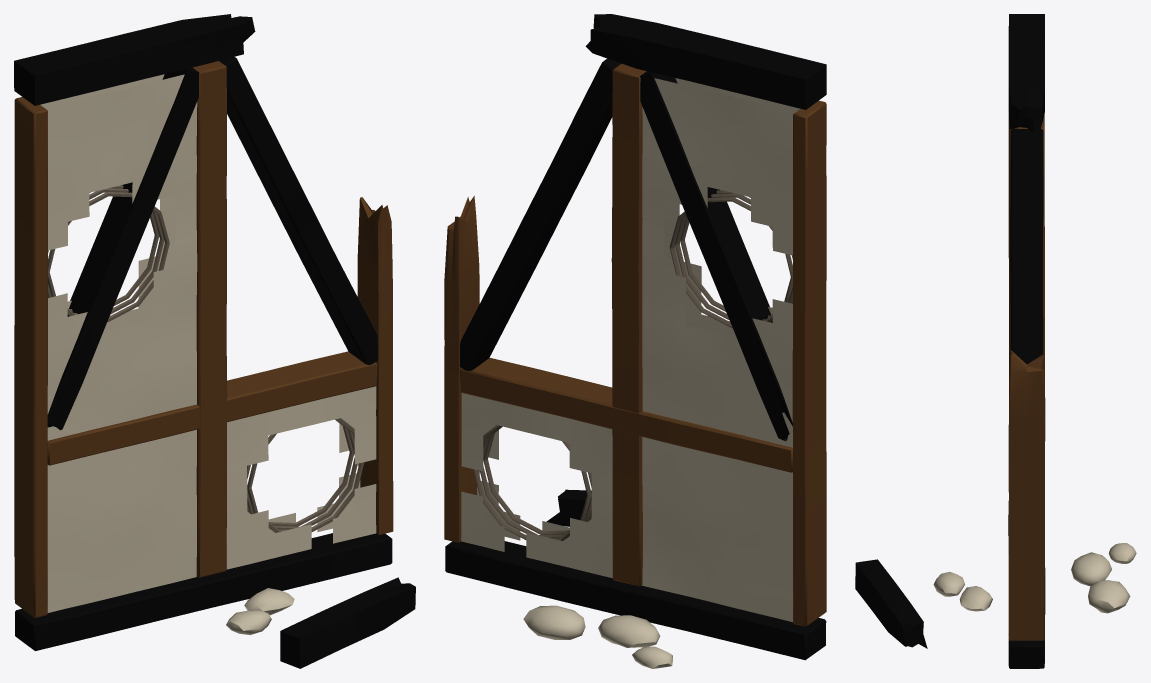
The model's file is wand_kaputt.glb.
3 renders of one model, left to right at view 1: azimuth 30°, elevation 25°; view 2: azimuth 150°, elevation 25°; view 3: azimuth 270°, elevation 25°, orthographic. The views are drawn at different scales.
Visible parts, largest first — view 1: wand_kaputt; view 2: wand_kaputt; view 3: wand_kaputt.
Boxes of the visible parts, x1,y1,x2,y2 form: wand_kaputt: (14,14,415,668); wand_kaputt: (444,14,826,668); wand_kaputt: (855,14,1136,668).
Size of the model in its own units: 2 by 3.08 by 1.56.
